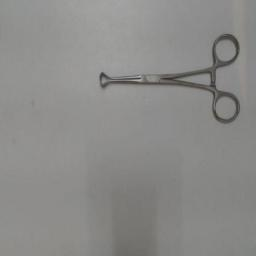Babcock Tissue Forceps: (96, 29, 244, 127)
